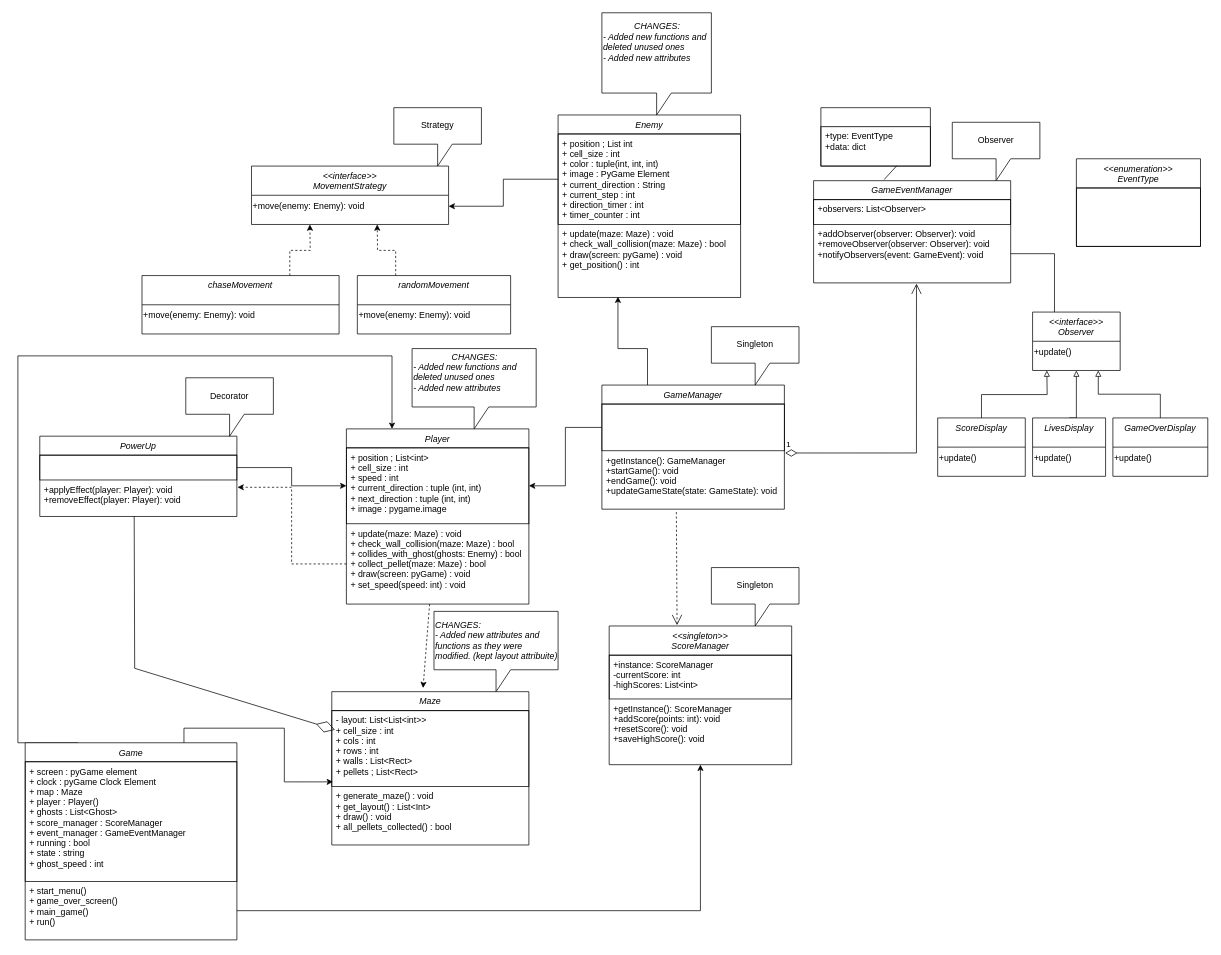
Some shapes in this 1221 by 955 pixel diagram are drawn without their labels. The centre of each missing label's shape, as x and y in pixels:
"+instance: GameManager -state: GameState -scoreManager: ScoreManager" goes at point (692, 427).
"-duration: int" goes at point (138, 467).
"GameEvent" goes at point (875, 136).
"SCORE_UPDATED LIFE_LOST LEVEL_COMPLETED POWER_UP_COLLECTED" goes at point (1138, 216).
